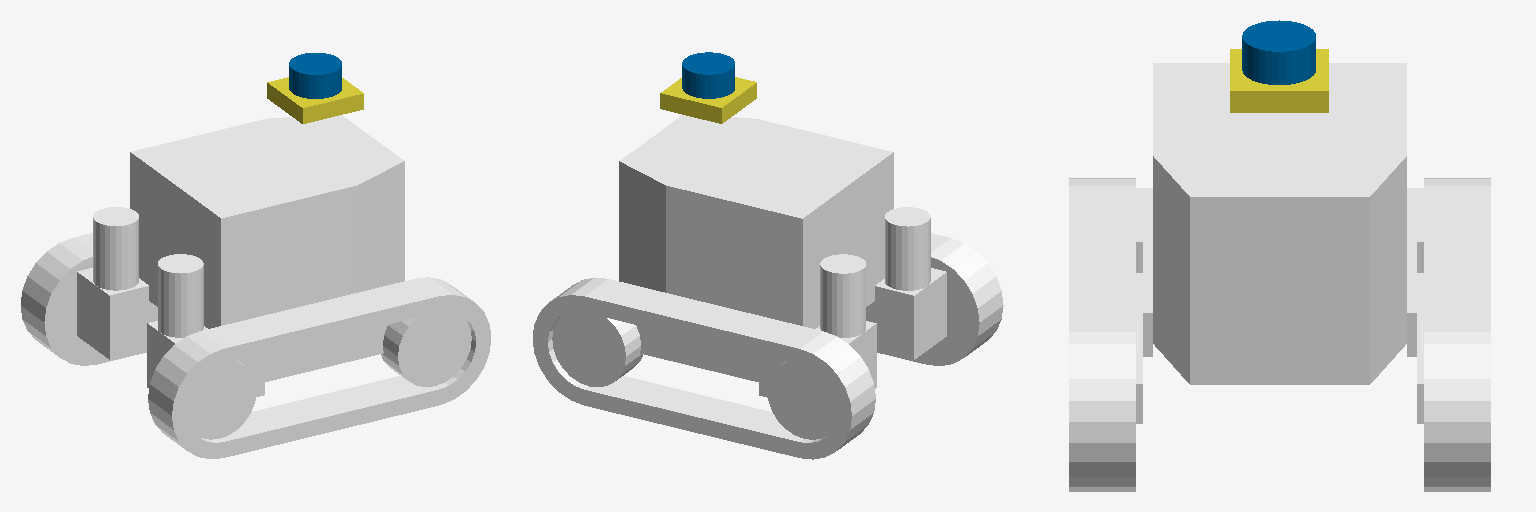
The robot description file, URDF, robot "trip":
<?xml version="1.0" ?>
<!-- =================================================================================== -->
<!-- |    This document was autogenerated by xacro from trip.urdf.xacro                | -->
<!-- |    EDITING THIS FILE BY HAND IS NOT RECOMMENDED                                 | -->
<!-- =================================================================================== -->
<robot name="trip">
  <!--  BASE LINK  -->
  <link name="base_link">
    <inertial>
      <origin rpy="0 0 0" xyz="0 0 0"/>
      <mass value="5.0"/>
      <inertia ixx="0.05" ixy="0.0" ixz="0.0" iyy="0.05" iyz="0.0" izz="0.08"/>
    </inertial>
    <visual>
      <origin rpy="0 0 3.141592653589793" xyz="0.003 -0.002 -0.075"/>
      <geometry>
        <mesh filename="package://trip_description/meshes/base_link.dae"/>
      </geometry>
    </visual>
    <collision>
      <origin rpy="0 0 0" xyz="-0.004 0 0"/>
      <geometry>
        <box size="0.16 0.103 0.11"/>
      </geometry>
    </collision>
  </link>
  <!--  IMU  -->
  <link name="imu_link">
    <inertial>
      <mass value="0.01"/>
      <inertia ixx="1e-5" ixy="0.0" ixz="0.0" iyy="1e-5" iyz="0.0" izz="1e-5"/>
    </inertial>
  </link>
  <joint name="imu_joint" type="fixed">
    <parent link="base_link"/>
    <child link="imu_link"/>
    <origin rpy="0 0 0" xyz="0 0 0.08"/>
  </joint>
  <gazebo reference="imu_link">
    <sensor name="imu_sensor" type="imu">
      <always_on>true</always_on>
      <update_rate>200</update_rate>
      <imu>
        <angular_velocity>
          <x>
            <noise type="gaussian">
              <stddev>0.002</stddev>
            </noise>
          </x>
          <y>
            <noise type="gaussian">
              <stddev>0.002</stddev>
            </noise>
          </y>
          <z>
            <noise type="gaussian">
              <stddev>0.002</stddev>
            </noise>
          </z>
        </angular_velocity>
        <linear_acceleration>
          <x>
            <noise type="gaussian">
              <stddev>0.03</stddev>
            </noise>
          </x>
          <y>
            <noise type="gaussian">
              <stddev>0.03</stddev>
            </noise>
          </y>
          <z>
            <noise type="gaussian">
              <stddev>0.03</stddev>
            </noise>
          </z>
        </linear_acceleration>
      </imu>
      <plugin filename="libgazebo_ros_imu_sensor.so" name="imu_plugin">
        <ros>
          <namespace>/trip</namespace>
          <remapping>~/out:=imu</remapping>
        </ros>
        <frame_name>imu_link</frame_name>
      </plugin>
    </sensor>
  </gazebo>
  <!--  CAMERA  -->
  <link name="camera_link">
    <inertial>
      <mass value="0.01"/>
      <inertia ixx="1e-5" ixy="0.0" ixz="0.0" iyy="1e-5" iyz="0.0" izz="1e-5"/>
    </inertial>
  </link>
  <joint name="camera_joint" type="fixed">
    <parent link="base_link"/>
    <child link="camera_link"/>
    <origin rpy="0 0 0" xyz="0.08 0 0.12"/>
  </joint>
  <gazebo reference="camera_link">
    <sensor name="camera_sensor" type="camera">
      <update_rate>30</update_rate>
      <camera>
        <horizontal_fov>1.396</horizontal_fov>
        <image>
          <width>640</width>
          <height>480</height>
          <format>R8G8B8</format>
        </image>
        <clip>
          <near>0.05</near>
          <far>50</far>
        </clip>
      </camera>
      <plugin filename="libgazebo_ros_camera.so" name="trip_camera_plugin">
        <ros>
          <namespace>/trip</namespace>
        </ros>
        <frame_name>camera_link</frame_name>
        <camera_name>camera</camera_name>
        <image_topic_name>image_raw</image_topic_name>
        <camera_info_topic_name>camera_info</camera_info_topic_name>
      </plugin>
    </sensor>
  </gazebo>
  <!--  LIDAR  -->
  <link name="lidar_pitch_link">
    <visual>
      <geometry>
        <box size="0.04 0.04 0.01"/>
      </geometry>
    </visual>
    <inertial>
      <mass value="0.1"/>
      <inertia ixx="0.0005" ixy="0" ixz="0" iyy="0.0005" iyz="0" izz="0.0005"/>
    </inertial>
  </link>
  <link name="lidar_link">
    <visual>
      <geometry>
        <cylinder length="0.02" radius="0.015"/>
      </geometry>
    </visual>
    <inertial>
      <mass value="0.01"/>
      <inertia ixx="1e-5" ixy="0.0" ixz="0.0" iyy="1e-5" iyz="0.0" izz="1e-5"/>
    </inertial>
  </link>
  <joint name="lidar_pitch_joint" type="revolute">
    <parent link="base_link"/>
    <child link="lidar_pitch_link"/>
    <origin rpy="0 0 0" xyz="0.04 0 0.09"/>
    <axis xyz="1 0 0"/>
    <limit effort="1.0" lower="-0.35" upper="0.35" velocity="1.0"/>
  </joint>
  <joint name="lidar_mount_joint" type="fixed">
    <parent link="lidar_pitch_link"/>
    <child link="lidar_link"/>
    <origin rpy="0 0 0" xyz="0 0 0.01"/>
  </joint>
  <gazebo reference="lidar_link">
    <sensor name="lidar_sensor" type="ray">
      <update_rate>10</update_rate>
      <ray>
        <scan>
          <horizontal>
            <samples>720</samples>
            <min_angle>-1.5708</min_angle>
            <max_angle>1.5708</max_angle>
          </horizontal>
        </scan>
        <range>
          <min>0.12</min>
          <max>30.0</max>
          <resolution>0.01</resolution>
        </range>
      </ray>
      <plugin filename="libgazebo_ros_ray_sensor.so" name="trip_lidar_plugin">
        <ros>
          <namespace>/trip</namespace>
          <remapping>~/out:=scan</remapping>
        </ros>
        <frame_name>lidar_link</frame_name>
        <output_type>sensor_msgs/LaserScan</output_type>
      </plugin>
    </sensor>
  </gazebo>
  <link name="right_front_wheel">
    <collision>
      <geometry>
        <cylinder length="0.027" radius="0.034"/>
      </geometry>
    </collision>
    <inertial>
      <mass value="0.1"/>
      <inertia ixx="1e-4" ixy="0" ixz="0" iyy="1e-4" iyz="0" izz="1e-4"/>
    </inertial>
  </link>
  <joint name="right_front_wheel_joint" type="continuous">
    <parent link="base_link"/>
    <child link="right_front_wheel"/>
    <origin rpy="0 1.5707963267948966 1.5707963267948966" xyz="0.07 -0.0716 -0.042"/>
    <axis xyz="0 0 1"/>
  </joint>
  <link name="left_front_wheel">
    <collision>
      <geometry>
        <cylinder length="0.027" radius="0.034"/>
      </geometry>
    </collision>
    <inertial>
      <mass value="0.1"/>
      <inertia ixx="1e-4" ixy="0" ixz="0" iyy="1e-4" iyz="0" izz="1e-4"/>
    </inertial>
  </link>
  <joint name="left_front_wheel_joint" type="continuous">
    <parent link="base_link"/>
    <child link="left_front_wheel"/>
    <origin rpy="0 1.5707963267948966 1.5707963267948966" xyz="0.07 0.0716 -0.042"/>
    <axis xyz="0 0 1"/>
  </joint>
  <link name="right_back_wheel">
    <collision>
      <geometry>
        <cylinder length="0.027" radius="0.034"/>
      </geometry>
    </collision>
    <inertial>
      <mass value="0.1"/>
      <inertia ixx="1e-4" ixy="0" ixz="0" iyy="1e-4" iyz="0" izz="1e-4"/>
    </inertial>
  </link>
  <joint name="right_back_wheel_joint" type="continuous">
    <parent link="base_link"/>
    <child link="right_back_wheel"/>
    <origin rpy="0 1.5707963267948966 1.5707963267948966" xyz="-0.07 -0.0716 -0.042"/>
    <axis xyz="0 0 1"/>
  </joint>
  <link name="left_back_wheel">
    <collision>
      <geometry>
        <cylinder length="0.027" radius="0.034"/>
      </geometry>
    </collision>
    <inertial>
      <mass value="0.1"/>
      <inertia ixx="1e-4" ixy="0" ixz="0" iyy="1e-4" iyz="0" izz="1e-4"/>
    </inertial>
  </link>
  <joint name="left_back_wheel_joint" type="continuous">
    <parent link="base_link"/>
    <child link="left_back_wheel"/>
    <origin rpy="0 1.5707963267948966 1.5707963267948966" xyz="-0.07 0.0716 -0.042"/>
    <axis xyz="0 0 1"/>
  </joint>
</robot>

--- Facts derived from the render (not from the file) ---
The picture shows the robot from 3 angles, left to right: view 1: azimuth 30°, elevation 25°; view 2: azimuth 150°, elevation 25°; view 3: azimuth 270°, elevation 25°; orthographic projection.
Robot: trip — 9 links, 8 joints (1 revolute, 4 continuous, 3 fixed); root link base_link; default pose: every joint at zero.
Visible links, largest first — view 1: base_link, lidar_pitch_link, lidar_link; view 2: base_link, lidar_pitch_link, lidar_link; view 3: base_link, lidar_link, lidar_pitch_link.
Link boxes in pixels (bbox=[...]): base_link: bbox=[21, 115, 490, 458]; lidar_pitch_link: bbox=[267, 77, 363, 123]; lidar_link: bbox=[289, 53, 341, 98]; base_link: bbox=[533, 115, 1003, 459]; lidar_pitch_link: bbox=[660, 77, 756, 123]; lidar_link: bbox=[682, 52, 734, 98]; base_link: bbox=[1069, 63, 1490, 491]; lidar_link: bbox=[1242, 20, 1315, 84]; lidar_pitch_link: bbox=[1230, 49, 1328, 112].
Bounding box of the posed robot: 0.208 × 0.1707 × 0.1855 m (x, y, z).
1 mesh visuals loaded from 1 distinct referenced files (1 Collada DAE).
